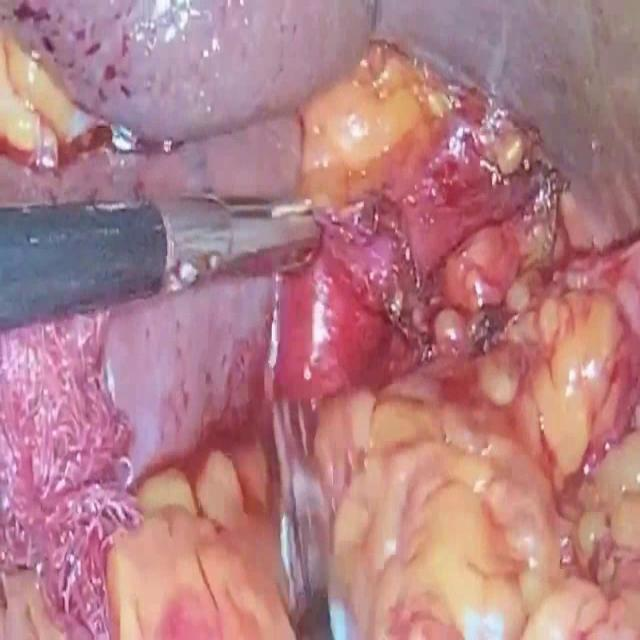surgical-tool: (0, 197, 320, 331)
